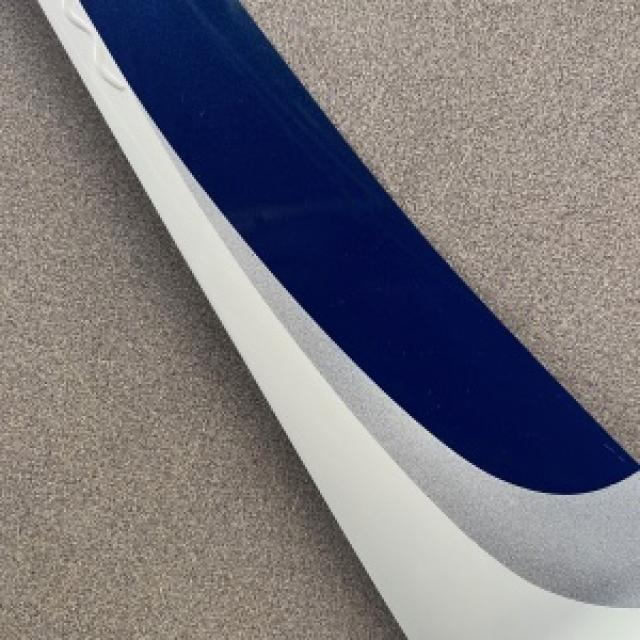healthy: (422, 17, 621, 183)
